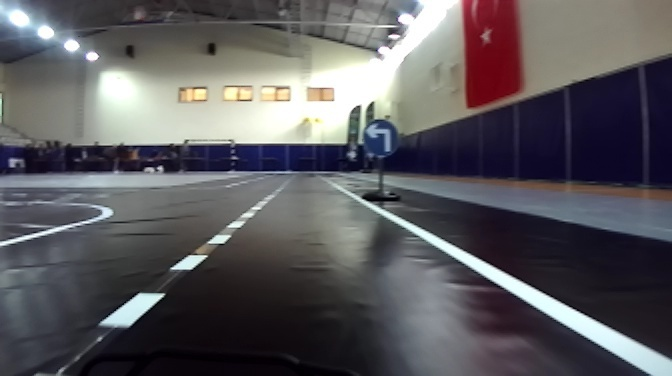sola_donus: (357, 119, 398, 158)
